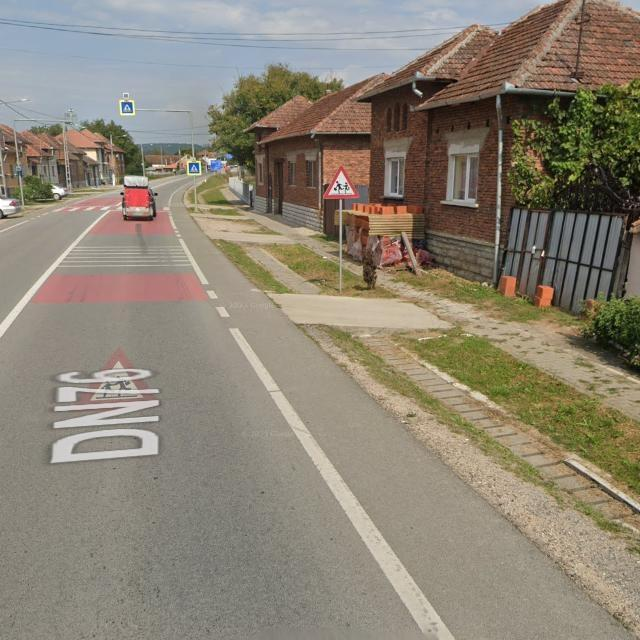info_crosswalk: (187, 161, 202, 175), (121, 101, 135, 116)
